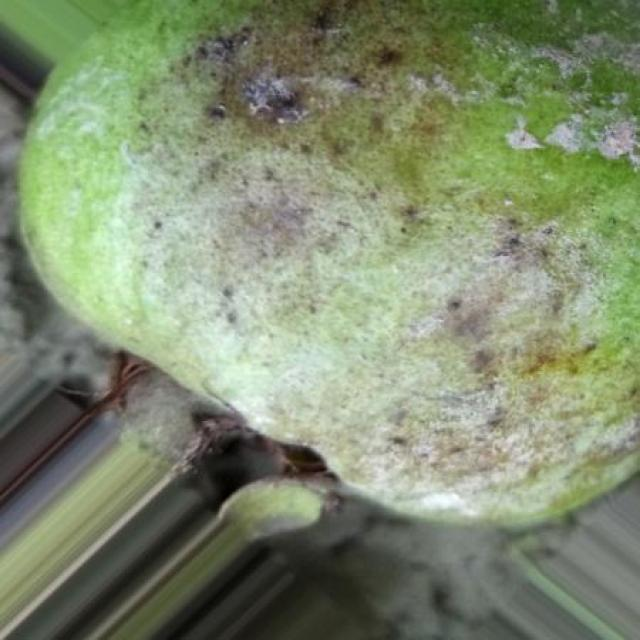Phytopthora: (21, 0, 640, 522)
